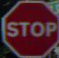Stop: (4, 2, 56, 51)
